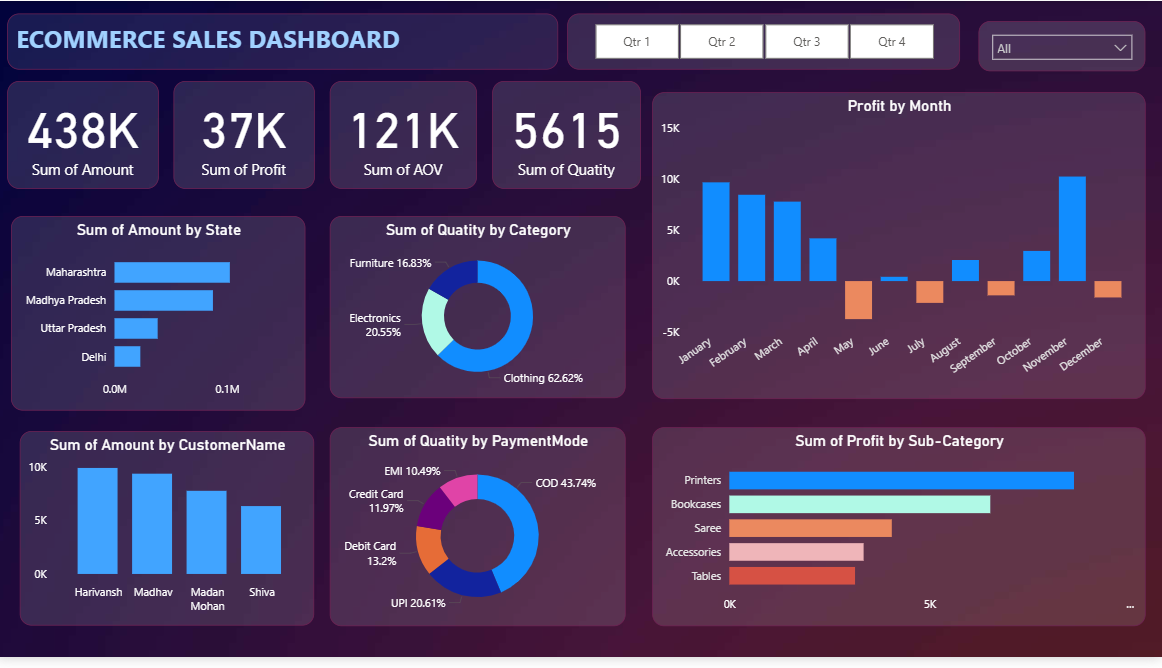

The dashboard page shown, as its layout file describes it:
{"tool":"powerbi","page":{"name":"Page 1","canvas":[1280,720],"ordinal":0},"visuals":[{"type":"textbox","box":[12.3,13.7,605.1,61.7],"z":0},{"type":"columnChart","title":"Profit by Month","fields":{"Category":["Orders.Order Date.Variation.Date Hierarchy.Month"],"Y":["Details.Profit"]},"box":[720,100,541.7,336.7],"z":1000},{"type":"clusteredBarChart","fields":{"Category":["Details.Sub-Category"],"Y":["Details.Profit"]},"box":[720,468.3,541.7,218.3],"z":2000},{"type":"donutChart","fields":{"Category":["Details.Category"],"Y":["Details.Quatity"]},"box":[366.7,236.7,325,200],"z":3000},{"type":"donutChart","fields":{"Category":["Details.PaymentMode"],"Y":["Details.Quatity"]},"box":[366.7,468.3,325,218.3],"z":4000},{"type":"card","fields":{"Values":["Details.Amount"]},"box":[11.7,88.3,166.7,118.3],"z":5000},{"type":"card","fields":{"Values":["Details.Profit"]},"box":[195,88.3,155,118.3],"z":6000},{"type":"card","fields":{"Values":["Details.Quatity"]},"box":[545,88.3,163.3,118.3],"z":7000},{"type":"card","fields":{"Values":["Details.AOV"]},"box":[366.7,88.3,161.7,118.3],"z":8000},{"type":"clusteredBarChart","fields":{"Category":["Orders.State"],"Y":["Details.Amount"]},"box":[16.7,236.7,323.3,213.3],"z":9000},{"type":"columnChart","fields":{"Category":["Orders.CustomerName"],"Y":["Details.Amount"]},"box":[26.7,471.7,323.3,213.3],"z":10000},{"type":"slicer","fields":{"Values":["Orders.Order Date.Variation.Date Hierarchy.Quarter"]},"box":[627.1,13.7,430.9,61.7],"z":11000},{"type":"slicer","fields":{"Values":["Orders.State"]},"box":[1078.3,21.7,183.3,55],"z":12000}]}

Visuals, with their boxes in screenshot pixels (x1, y1, x2, y2), scaled from the page's 1280x720 canvas onto the 1162x668 screenshot:
textbox: rect(11, 13, 560, 70)
"Profit by Month" columnChart: rect(654, 93, 1145, 405)
clusteredBarChart - Details.Sub-Category x Details.Profit: rect(654, 434, 1145, 637)
donutChart - Details.Category x Details.Quatity: rect(333, 220, 628, 405)
donutChart - Details.PaymentMode x Details.Quatity: rect(333, 434, 628, 637)
card - Details.Amount: rect(11, 82, 162, 192)
card - Details.Profit: rect(177, 82, 318, 192)
card - Details.Quatity: rect(495, 82, 643, 192)
card - Details.AOV: rect(333, 82, 480, 192)
clusteredBarChart - Orders.State x Details.Amount: rect(15, 220, 309, 418)
columnChart - Orders.CustomerName x Details.Amount: rect(24, 438, 318, 636)
slicer - Orders.Order Date.Variation.Date Hierarchy.Quarter: rect(569, 13, 960, 70)
slicer - Orders.State: rect(979, 20, 1145, 71)
